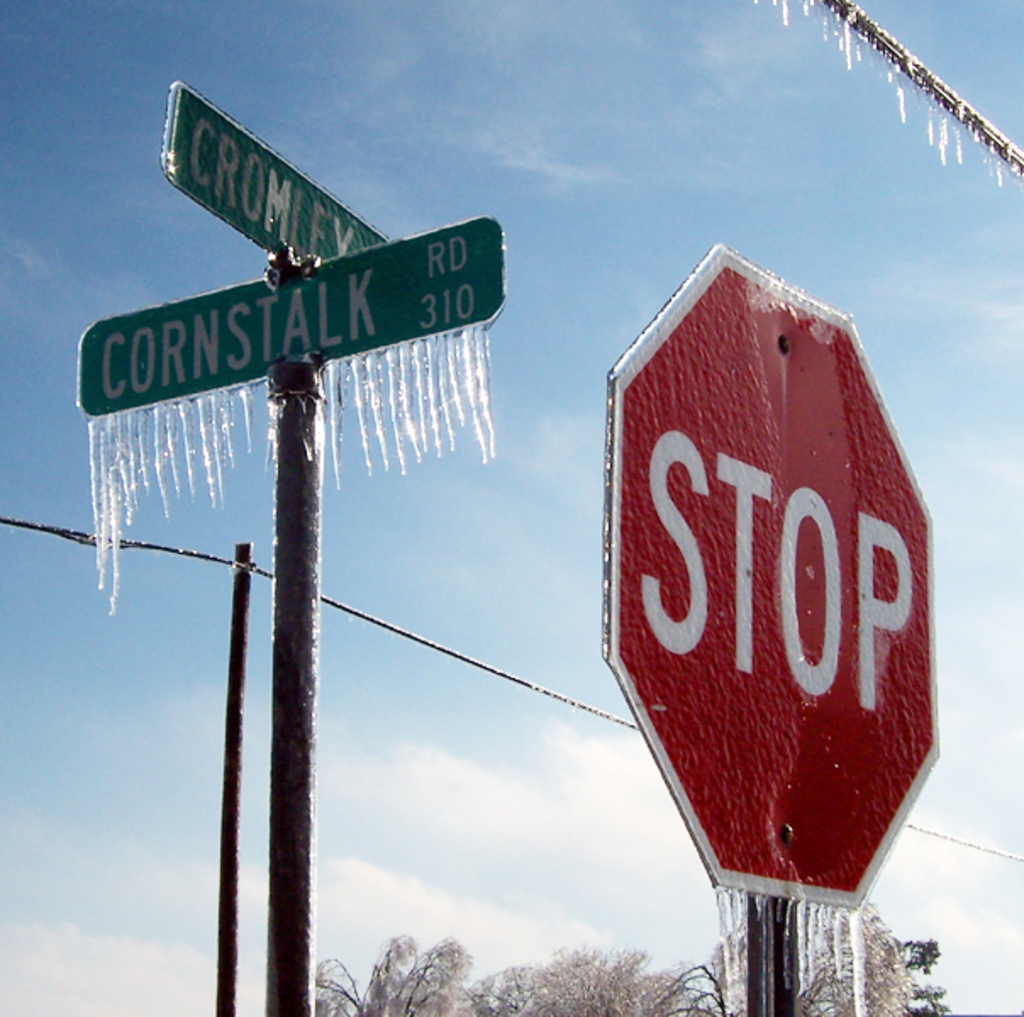stop_sign: (604, 244, 936, 908)
